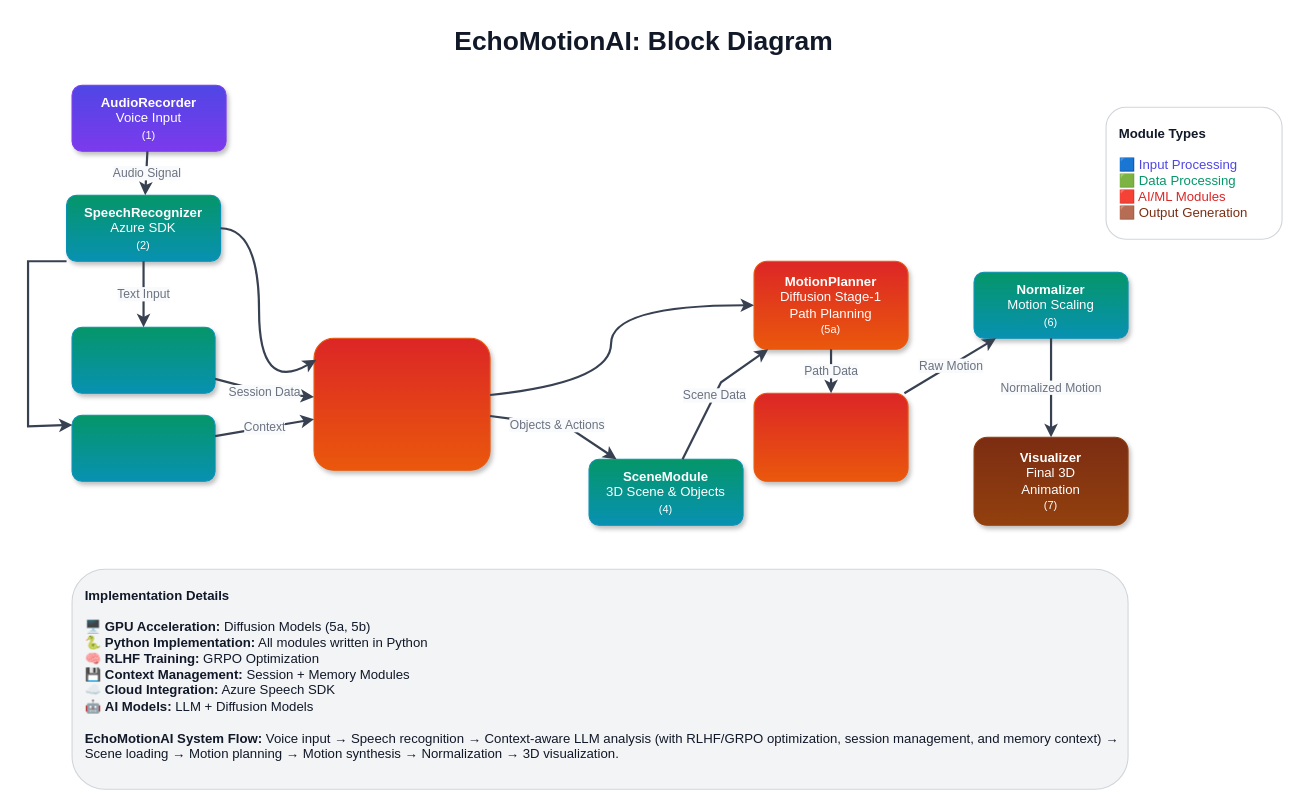
Some shapes in this 1301 by 809 pixel diagram are drawn without their labels. The shapes that lost their labels are listed below. From the top down, each one's centre as x and y in pixels, then its label:
point 144,361: Session Management (3a)
point 403,405: LLMModule Chain-of-Thought Analysis RLHF + GRPO Reinforcement Learning (3)
point 144,449: Memory Context Store (3b)
point 832,438: MotionSynthesizer Diffusion Stage-2 Pose Generation (5b)
